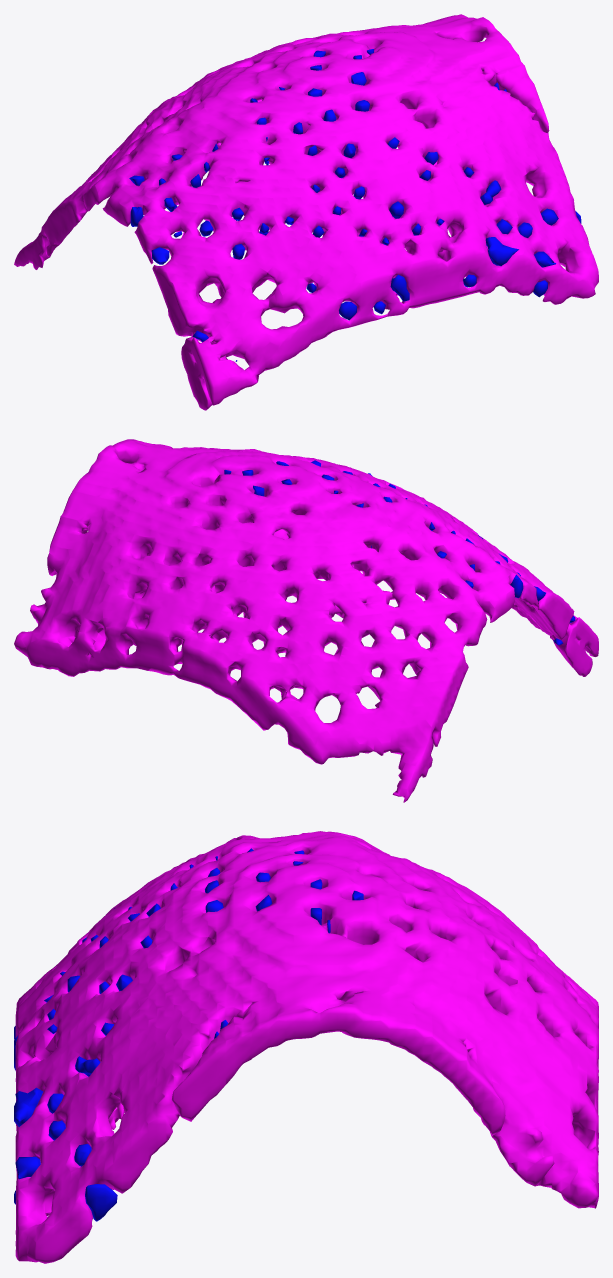
Rendered from quinculo.glb.
The picture shows the model from 3 angles, top to bottom: view 1: azimuth 30°, elevation 25°; view 2: azimuth 150°, elevation 25°; view 3: azimuth 270°, elevation 25°; orthographic projection. The views are drawn at different scales.
Visible parts, largest first — view 1: seg_cut2chamber_mesh; view 2: seg_cut2chamber_mesh; view 3: seg_cut2chamber_mesh.
Boxes of the visible parts, <box> form: seg_cut2chamber_mesh: <box>14,14,598,410</box>; seg_cut2chamber_mesh: <box>14,439,598,802</box>; seg_cut2chamber_mesh: <box>14,831,598,1263</box>.
Bounding box in the file's own units: 1.46 × 0.7886 × 1.35.
